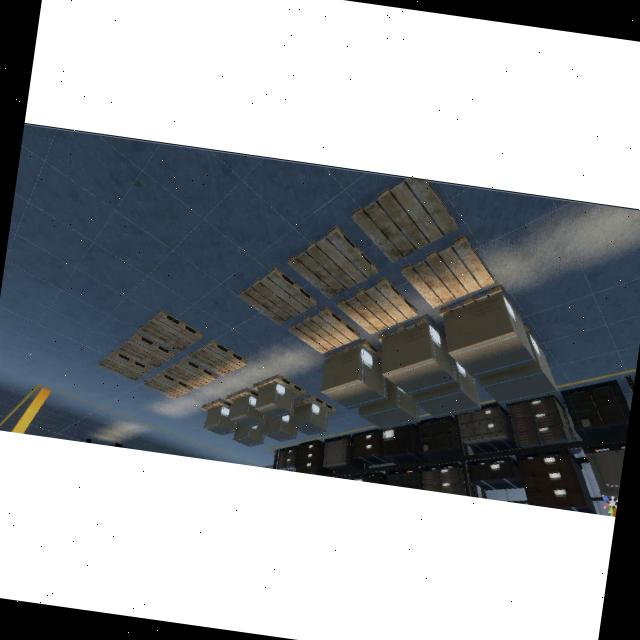wooden_pallet: (288, 227, 378, 299), (337, 278, 417, 335), (237, 268, 317, 324), (288, 307, 360, 355), (439, 285, 522, 323), (139, 311, 204, 354), (188, 340, 248, 376), (378, 317, 447, 345), (252, 375, 306, 398), (294, 395, 336, 414), (226, 387, 258, 404), (201, 399, 233, 412)
